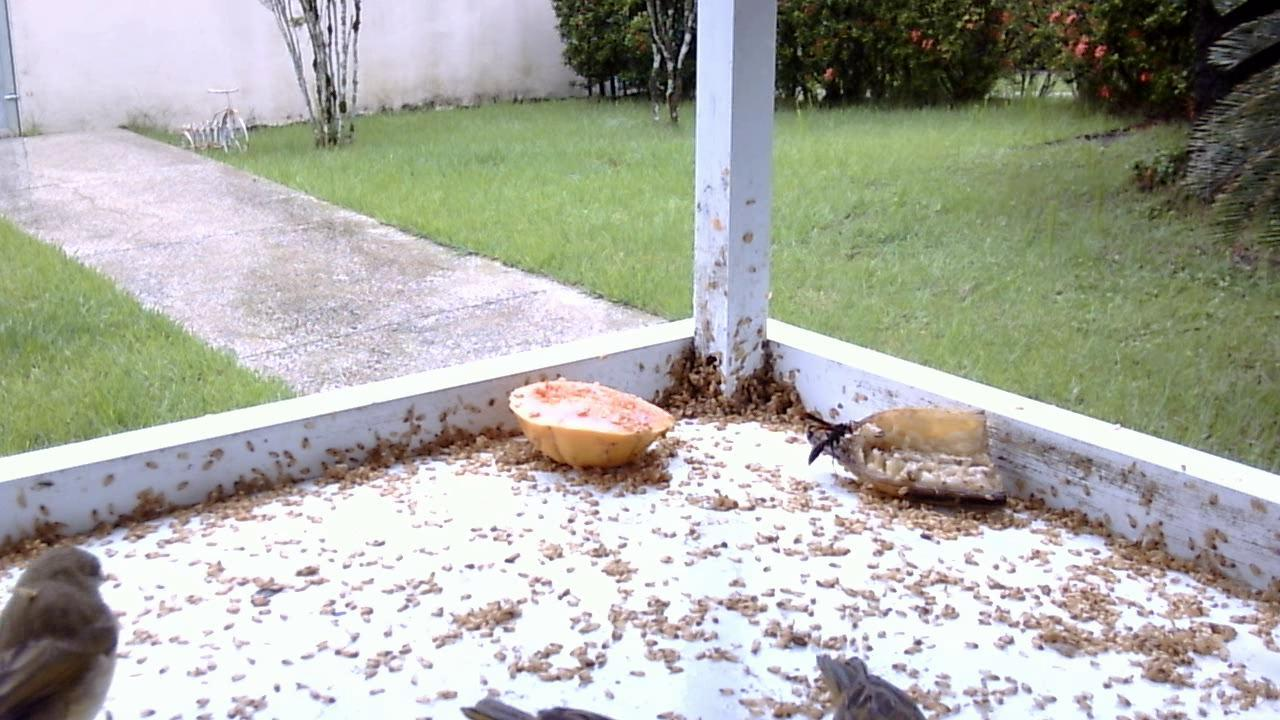canario_do_amazonas: (1, 538, 135, 716), (800, 638, 939, 716)
